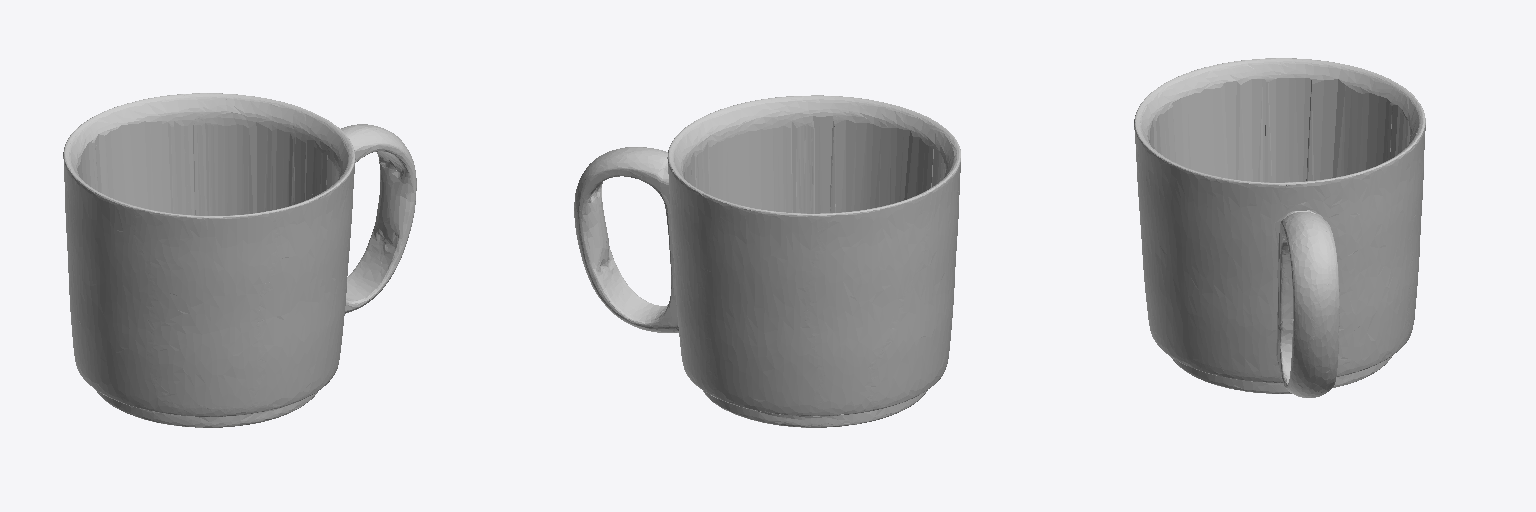
3 views of the same model, side by side, from view 1: azimuth 30°, elevation 25°; view 2: azimuth 150°, elevation 25°; view 3: azimuth 270°, elevation 25° (orthographic).
Visible parts, largest first — view 1: [number redacted]_3_beizi2; view 2: [number redacted]_3_beizi2; view 3: [number redacted]_3_beizi2.
Boxes of the visible parts, box(x1,y1,x2,y2) form: [number redacted]_3_beizi2: box(63, 93, 416, 427); [number redacted]_3_beizi2: box(574, 95, 960, 427); [number redacted]_3_beizi2: box(1134, 58, 1425, 397).
Size of the model in its own units: 0.1101 by 0.0694 by 0.0802.